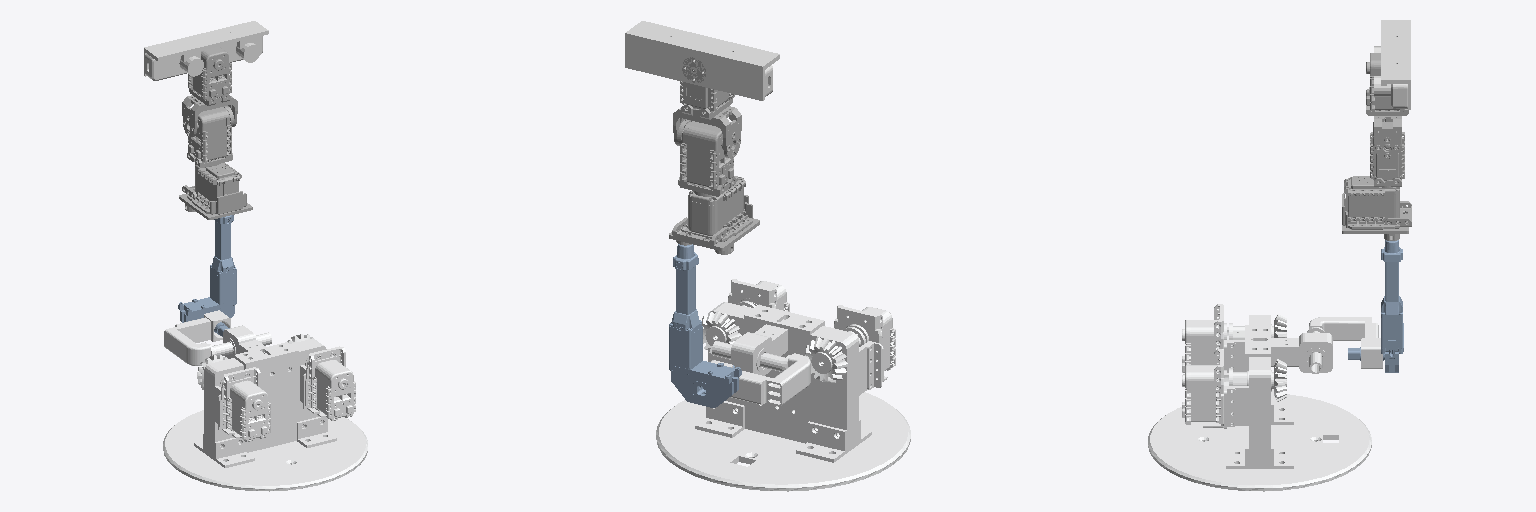
robot.urdf — DtachableHead_urdf:
<?xml version="1.0" encoding="utf-8"?>
<!-- This URDF was automatically created by SolidWorks to URDF Exporter! Originally created by [author] ([email redacted]) 
     Commit Version: 1.6.0-4-g7f85cfe  Build Version: 1.6.7995.38578
     For more information, please see http://wiki.ros.org/sw_urdf_exporter -->
<robot
  name="DtachableHead_urdf">
  <link
    name="base_link">
    <inertial>
      <origin
        xyz="-0.000160763379547333 -0.0028778608375346 0.0413095409157996"
        rpy="0 0 0" />
      <mass
        value="1.35645615501944" />
      <inertia
        ixx="0.00160679424866847"
        ixy="-1.96133222815189E-08"
        ixz="-4.28172380283089E-11"
        iyy="0.00256871988358894"
        iyz="2.47783545305456E-05"
        izz="0.00323989902972532" />
    </inertial>
    <visual>
      <origin
        xyz="0 0 0"
        rpy="0 0 0" />
      <geometry>
        <mesh
          filename="package://DtachableHead_urdf/meshes/base_link.STL" />
      </geometry>
      <material
        name="">
        <color
          rgba="0.992156862745098 0.996078431372549 1 1" />
      </material>
    </visual>
    <collision>
      <origin
        xyz="0 0 0"
        rpy="0 0 0" />
      <geometry>
        <mesh
          filename="package://DtachableHead_urdf/meshes/base_link.STL" />
      </geometry>
    </collision>
  </link>
  <link
    name="link1">
    <inertial>
      <origin
        xyz="-0.0344919141503805 -1.54366087967706E-09 -0.00292123191401799"
        rpy="0 0 0" />
      <mass
        value="0.0671568678454526" />
      <inertia
        ixx="1.39601406216235E-05"
        ixy="2.61151902536575E-12"
        ixz="5.0558028175513E-07"
        iyy="1.84505744884279E-05"
        iyz="-2.64774176024666E-12"
        izz="9.66500461012691E-06" />
    </inertial>
    <visual>
      <origin
        xyz="0 0 0"
        rpy="0 0 0" />
      <geometry>
        <mesh
          filename="package://DtachableHead_urdf/meshes/link1.STL" />
      </geometry>
      <material
        name="">
        <color
          rgba="0.992156862745098 0.996078431372549 1 1" />
      </material>
    </visual>
    <collision>
      <origin
        xyz="0 0 0"
        rpy="0 0 0" />
      <geometry>
        <mesh
          filename="package://DtachableHead_urdf/meshes/link1.STL" />
      </geometry>
    </collision>
  </link>
  <joint
    name="Joint1"
    type="continuous">
    <origin
      xyz="-0.0360499999999949 0.0499999999999997 0.0900000000000024"
      rpy="1.5707963267949 0 -1.5707963267949" />
    <parent
      link="base_link" />
    <child
      link="link1" />
    <axis
      xyz="0 0 -1" />
  </joint>
  <link
    name="link2">
    <inertial>
      <origin
        xyz="0.00998208521241244 0.0286104199594805 -0.0273197453173963"
        rpy="0 0 0" />
      <mass
        value="0.0356098993432724" />
      <inertia
        ixx="1.83783160193877E-05"
        ixy="9.28623788854822E-09"
        ixz="5.1441858537897E-11"
        iyy="4.62727883326016E-06"
        iyz="1.53864127815959E-08"
        izz="2.05218091451025E-05" />
    </inertial>
    <visual>
      <origin
        xyz="0 0 0"
        rpy="0 0 0" />
      <geometry>
        <mesh
          filename="package://DtachableHead_urdf/meshes/link2.STL" />
      </geometry>
      <material
        name="">
        <color
          rgba="0.63921568627451 0.717647058823529 0.807843137254902 1" />
      </material>
    </visual>
    <collision>
      <origin
        xyz="0 0 0"
        rpy="0 0 0" />
      <geometry>
        <mesh
          filename="package://DtachableHead_urdf/meshes/link2.STL" />
      </geometry>
    </collision>
  </link>
  <joint
    name="Joint2"
    type="continuous">
    <origin
      xyz="-0.0400000000000002 0 -0.0390000000000001"
      rpy="0 1.5707963267949 0" />
    <parent
      link="link1" />
    <child
      link="link2" />
    <axis
      xyz="0 0 -1" />
  </joint>
  <link
    name="link3">
    <inertial>
      <origin
        xyz="-0.0166445970887166 -0.0152591349151164 0.0960402777899793"
        rpy="0 0 0" />
      <mass
        value="0.0615999483609297" />
      <inertia
        ixx="1.96808644650992E-05"
        ixy="-7.73160709142128E-10"
        ixz="2.07413985495361E-09"
        iyy="1.1984164460371E-05"
        iyz="5.20730103700111E-07"
        izz="1.99107629303824E-05" />
    </inertial>
    <visual>
      <origin
        xyz="0 0 0"
        rpy="0 0 0" />
      <geometry>
        <mesh
          filename="package://DtachableHead_urdf/meshes/link3.STL" />
      </geometry>
      <material
        name="">
        <color
          rgba="0.749019607843137 0.749019607843137 0.749019607843137 1" />
      </material>
    </visual>
    <collision>
      <origin
        xyz="0 0 0"
        rpy="0 0 0" />
      <geometry>
        <mesh
          filename="package://DtachableHead_urdf/meshes/link3.STL" />
      </geometry>
    </collision>
  </link>
  <joint
    name="Joint3"
    type="prismatic">
    <origin
      xyz="0.0177 0.048825 -0.027931"
      rpy="-1.5708 0 0" />
    <parent
      link="link2" />
    <child
      link="link3" />
    <axis
      xyz="0 0 1" />
    <limit
      lower="0"
      upper="0.1"
      effort="0"
      velocity="0" />
  </joint>
  <link
    name="link4">
    <inertial>
      <origin
        xyz="0.000935720391849856 3.82530565196104E-07 0.0269255378944657"
        rpy="0 0 0" />
      <mass
        value="0.0459058932133953" />
      <inertia
        ixx="1.01806974090115E-05"
        ixy="2.05369267526458E-09"
        ixz="1.9075989053661E-07"
        iyy="1.19651025527216E-05"
        iyz="-8.78872520108583E-10"
        izz="6.93671043075208E-06" />
    </inertial>
    <visual>
      <origin
        xyz="0 0 0"
        rpy="0 0 0" />
      <geometry>
        <mesh
          filename="package://DtachableHead_urdf/meshes/link4.STL" />
      </geometry>
      <material
        name="">
        <color
          rgba="0.749019607843137 0.749019607843137 0.749019607843137 1" />
      </material>
    </visual>
    <collision>
      <origin
        xyz="0 0 0"
        rpy="0 0 0" />
      <geometry>
        <mesh
          filename="package://DtachableHead_urdf/meshes/link4.STL" />
      </geometry>
    </collision>
  </link>
  <joint
    name="Joint4"
    type="continuous">
    <origin
      xyz="-0.017355 -0.0040276 0.12394"
      rpy="0 0 0" />
    <parent
      link="link3" />
    <child
      link="link4" />
    <axis
      xyz="0 0 -1" />
  </joint>
  <link
    name="link5">
    <inertial>
      <origin
        xyz="0.000807779287032059 0.0477382509072259 -0.021000330251694"
        rpy="0 0 0" />
      <mass
        value="0.0531974022503482" />
      <inertia
        ixx="1.34162982657178E-05"
        ixy="1.90602862465922E-07"
        ixz="-2.05357289078785E-09"
        iyy="9.8133212386681E-06"
        iyz="8.78912371983287E-10"
        izz="1.31909439260168E-05" />
    </inertial>
    <visual>
      <origin
        xyz="0 0 0"
        rpy="0 0 0" />
      <geometry>
        <mesh
          filename="package://DtachableHead_urdf/meshes/link5.STL" />
      </geometry>
      <material
        name="">
        <color
          rgba="0.749019607843137 0.749019607843137 0.749019607843137 1" />
      </material>
    </visual>
    <collision>
      <origin
        xyz="0 0 0"
        rpy="0 0 0" />
      <geometry>
        <mesh
          filename="package://DtachableHead_urdf/meshes/link5.STL" />
      </geometry>
    </collision>
  </link>
  <joint
    name="Joint5"
    type="continuous">
    <origin
      xyz="0.0209400000000001 0 0.0414999999999974"
      rpy="1.5707963267949 0 1.5707963267949" />
    <parent
      link="link4" />
    <child
      link="link5" />
    <axis
      xyz="0 0 1" />
  </joint>
  <link
    name="link6">
    <inertial>
      <origin
        xyz="0.0012937603422366 0.00143049571285381 0.0122874973879902"
        rpy="0 0 0" />
      <mass
        value="0.0815114383015727" />
      <inertia
        ixx="8.6125557920118E-06"
        ixy="-5.42382835388739E-09"
        ixz="-1.34323836661227E-06"
        iyy="0.000107416004552211"
        iyz="-3.71193090190525E-07"
        izz="0.000107522902425227" />
    </inertial>
    <visual>
      <origin
        xyz="0 0 0"
        rpy="0 0 0" />
      <geometry>
        <mesh
          filename="package://DtachableHead_urdf/meshes/link6.STL" />
      </geometry>
      <material
        name="">
        <color
          rgba="0.917647058823529 0.917647058823529 0.917647058823529 1" />
      </material>
    </visual>
    <collision>
      <origin
        xyz="0 0 0"
        rpy="0 0 0" />
      <geometry>
        <mesh
          filename="package://DtachableHead_urdf/meshes/link6.STL" />
      </geometry>
    </collision>
  </link>
  <joint
    name="Joint6"
    type="continuous">
    <origin
      xyz="0.0209399999999999 0.0675000000000001 -0.0210000000000012"
      rpy="0 -1.5707963267949 0" />
    <parent
      link="link5" />
    <child
      link="link6" />
    <axis
      xyz="0 0 1" />
  </joint>
</robot>

--- Render facts (derived) ---
3 views of the same robot in one strip: view 1: azimuth 30°, elevation 25°; view 2: azimuth 150°, elevation 25°; view 3: azimuth 270°, elevation 25° (orthographic).
Model DtachableHead_urdf with 7 links and 6 joints (5 continuous, 1 prismatic), rooted at base_link, posed every joint at zero.
Links seen in each view (by area): view 1: base_link, link6, link2, link5, link3, link4, link1; view 2: base_link, link6, link2, link3, link4, link5, link1; view 3: base_link, link3, link6, link2, link5, link1, link4.
Link boxes in pixels (left/top/right/bottom): base_link: left=163, top=325, right=367, bottom=491; link6: left=144, top=21, right=268, bottom=80; link2: left=178, top=215, right=236, bottom=336; link5: left=182, top=47, right=237, bottom=137; link3: left=179, top=163, right=252, bottom=219; link4: left=187, top=106, right=233, bottom=167; link1: left=164, top=310, right=230, bottom=365; base_link: left=656, top=279, right=910, bottom=491; link6: left=625, top=21, right=779, bottom=100; link2: left=669, top=244, right=741, bottom=407; link3: left=669, top=176, right=759, bottom=254; link4: left=677, top=119, right=735, bottom=196; link5: left=673, top=57, right=741, bottom=158; link1: left=711, top=353, right=810, bottom=406; base_link: left=1148, top=304, right=1371, bottom=491; link3: left=1342, top=176, right=1411, bottom=240; link6: left=1374, top=20, right=1410, bottom=109; link2: left=1348, top=240, right=1403, bottom=372; link5: left=1366, top=53, right=1408, bottom=158; link1: left=1309, top=317, right=1382, bottom=368; link4: left=1370, top=121, right=1404, bottom=186.
Size in the robot's own frame: 0.1998 by 0.2359 by 0.3895 metres.
7 mesh visuals loaded from 7 distinct referenced files (7 binary STL).